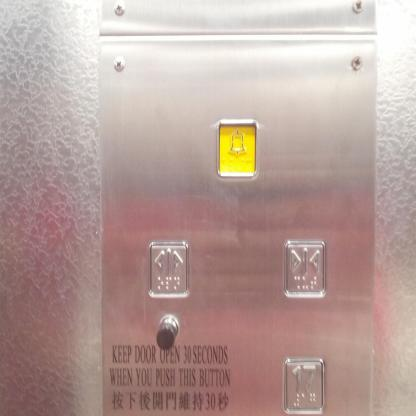17: (283, 358, 325, 413)
alarm: (216, 119, 258, 178)
close: (283, 239, 326, 297)
empty: (155, 315, 179, 349)
open: (148, 241, 188, 295)
